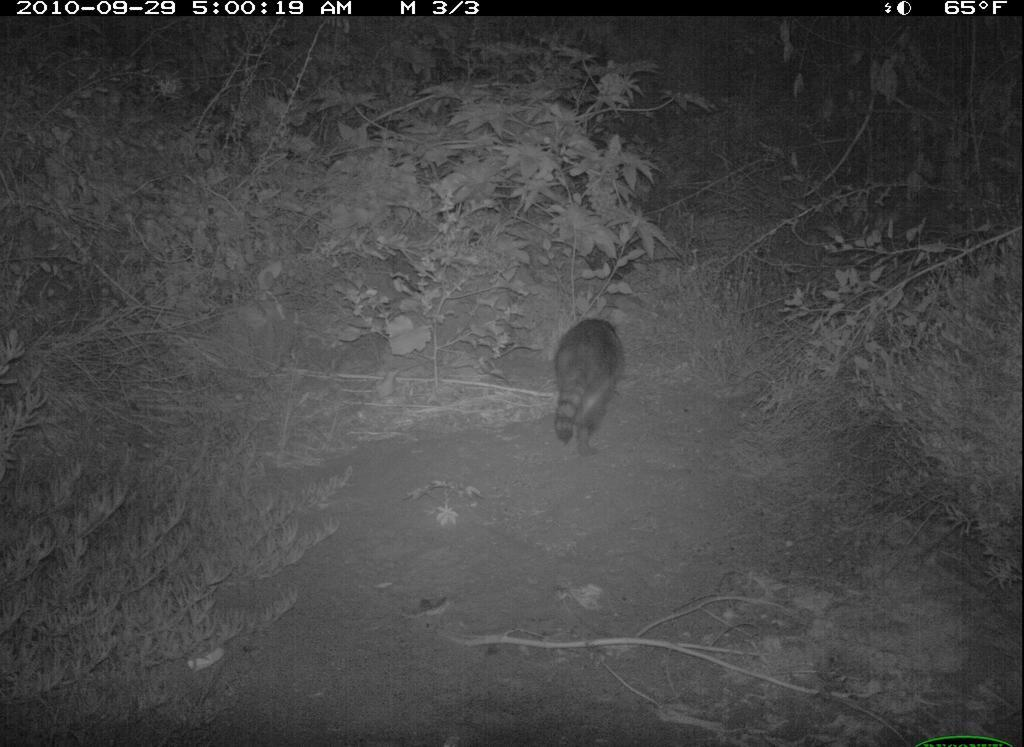raccoon: (553, 315, 626, 461)
